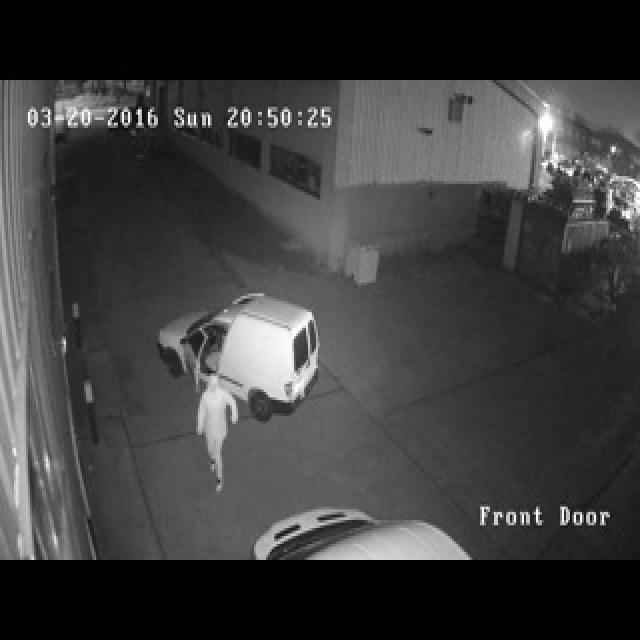thief: (189, 362, 243, 500)
